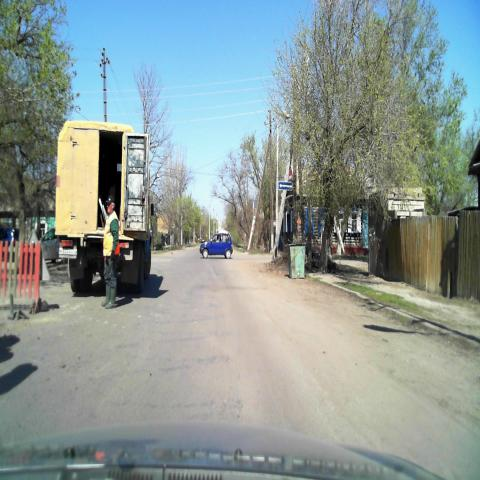5_7_2: (278, 181, 293, 189)
